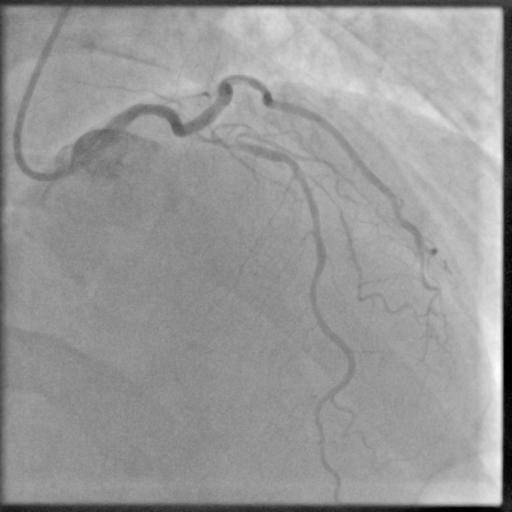Stenosis: (199, 129, 245, 150)
